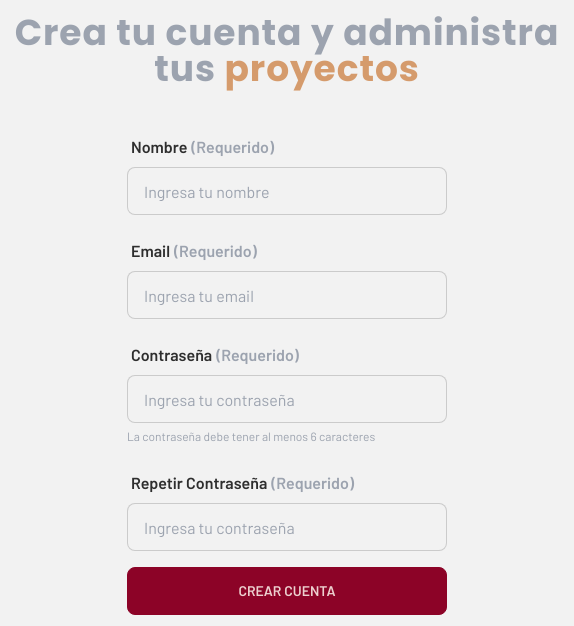
Test: <Register/> › should display an error message if the password is too short
Step 1. Type "Test" into the field with test id "name-input" → (287, 191), box x1=127 y1=167 x2=447 y2=215
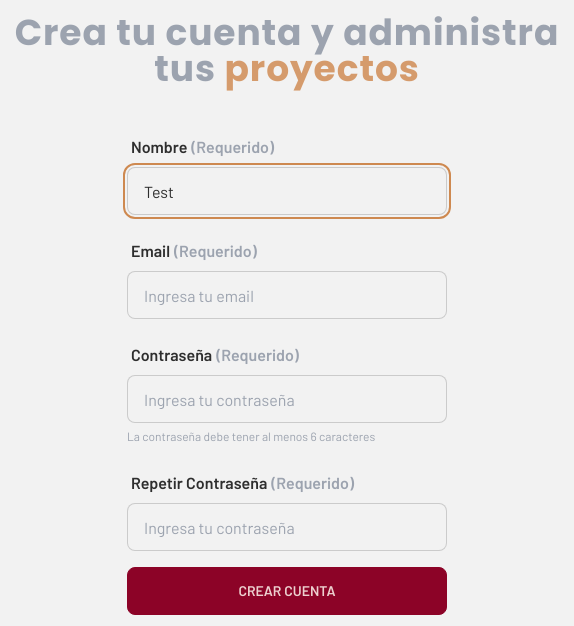
Step 2. Type "test@correo.com" into the field with test id "email-input" → (287, 295), box x1=127 y1=271 x2=447 y2=319
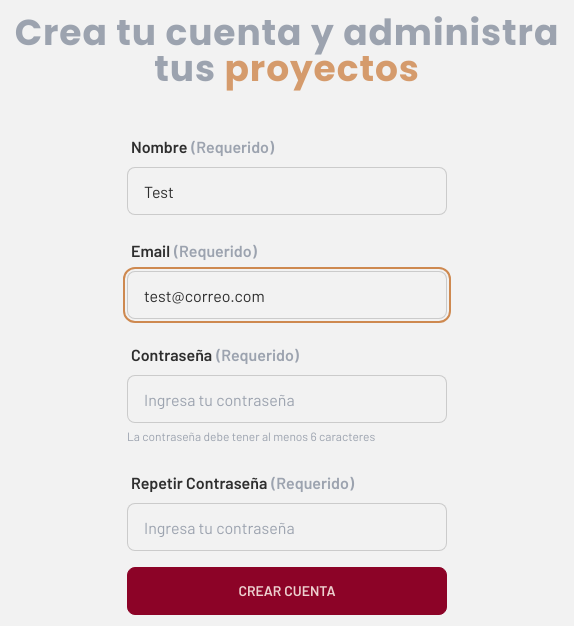
Step 3. Type "Test" into the password field with test id "password-input" → (287, 399), box x1=127 y1=375 x2=447 y2=423
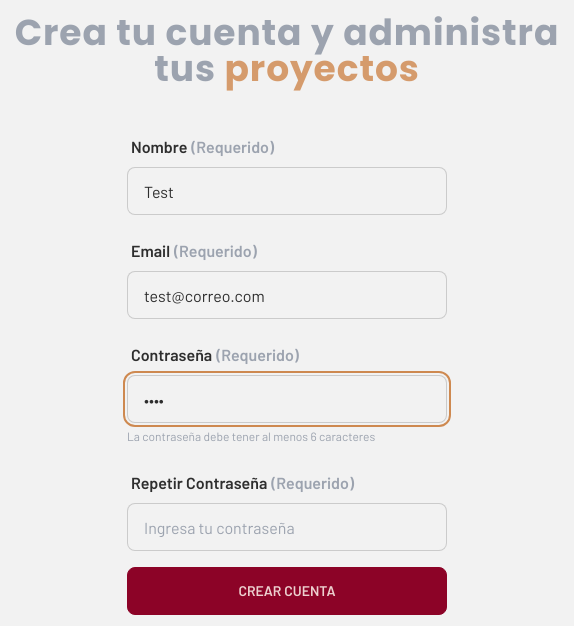
Step 4. Type "Test" into the password field with test id "repeat-password-input" → (287, 527), box x1=127 y1=503 x2=447 y2=551
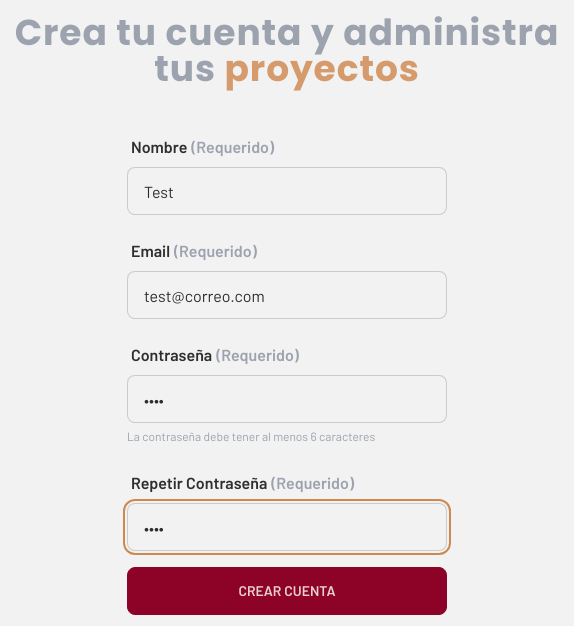
Step 5. Submit the form with test id "register-form", box x1=127 y1=127 x2=447 y2=615
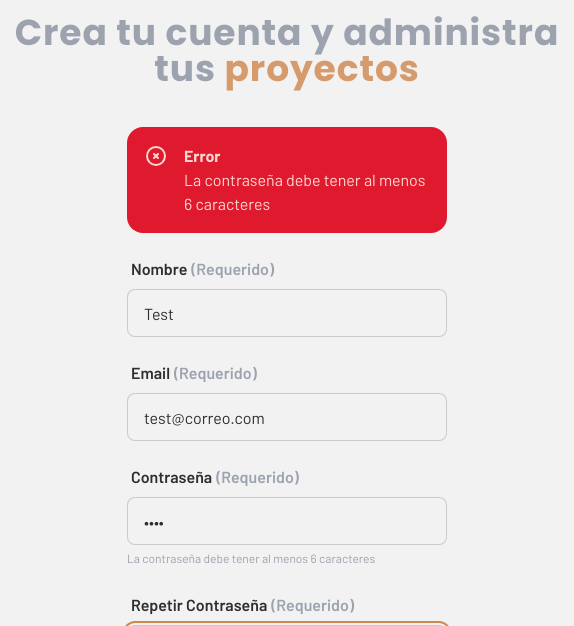
expect the element with test id "alert" is shown: met, box x1=127 y1=127 x2=447 y2=233
expect the heading with test id "alert-title" reads "Error": met, box x1=184 y1=146 x2=220 y2=165
expect the text with test id "alert-message" reads "La contraseña debe tener al menos 6 caracteres": met, box x1=184 y1=168 x2=430 y2=216
